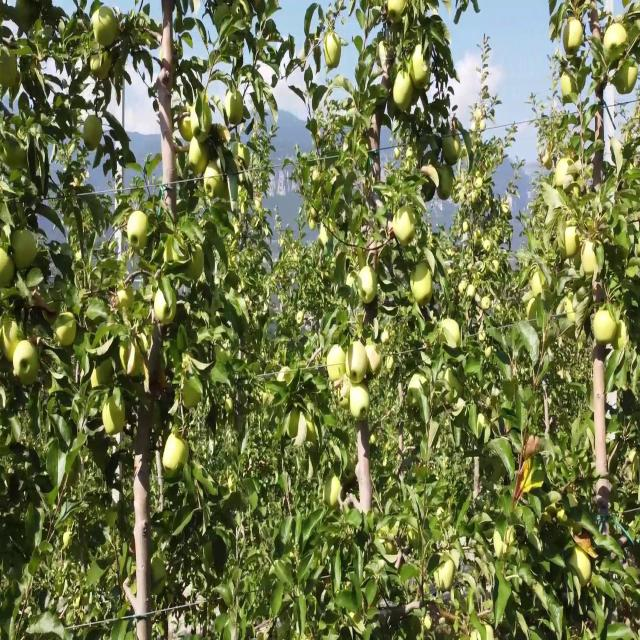apple: (92, 7, 120, 50), (164, 433, 188, 482), (12, 227, 38, 272), (604, 21, 628, 69), (16, 341, 40, 389), (616, 56, 640, 100), (592, 305, 616, 348), (412, 263, 433, 309), (4, 319, 25, 364), (120, 341, 144, 380), (104, 398, 128, 436), (412, 49, 433, 92), (396, 206, 417, 249), (156, 284, 177, 327), (4, 135, 28, 171), (128, 213, 150, 252), (188, 142, 211, 178), (0, 49, 19, 92), (164, 234, 188, 268), (56, 312, 78, 348), (224, 92, 246, 128), (396, 71, 415, 112), (348, 341, 366, 384), (440, 319, 462, 354), (84, 113, 104, 151), (356, 270, 377, 306), (92, 49, 113, 85), (204, 163, 224, 199), (324, 35, 343, 71), (564, 21, 584, 55), (328, 348, 346, 384), (352, 391, 372, 423), (196, 106, 213, 142), (188, 248, 205, 283), (584, 241, 600, 277), (612, 319, 629, 352), (324, 476, 342, 507), (388, 0, 408, 27), (96, 362, 116, 389), (420, 170, 436, 203), (436, 170, 453, 201), (564, 227, 582, 256), (184, 383, 202, 412), (368, 341, 382, 377), (4, 248, 16, 288), (444, 135, 460, 165), (560, 78, 576, 107), (92, 369, 112, 391), (180, 113, 195, 142), (532, 270, 547, 299), (368, 241, 381, 272), (288, 412, 301, 441), (592, 284, 607, 308), (556, 163, 570, 187), (337, 383, 352, 404), (572, 248, 583, 276), (576, 71, 588, 96), (304, 419, 317, 441), (528, 298, 539, 322), (544, 142, 553, 171), (488, 255, 500, 276), (380, 327, 392, 347), (216, 127, 230, 144), (92, 369, 102, 391), (588, 1, 599, 21), (320, 227, 329, 249), (565, 298, 574, 318), (460, 142, 469, 160), (472, 191, 480, 206), (484, 241, 492, 256), (476, 227, 483, 244), (572, 7, 585, 16), (308, 220, 317, 233), (484, 298, 491, 313), (464, 220, 470, 235), (496, 234, 502, 244)
